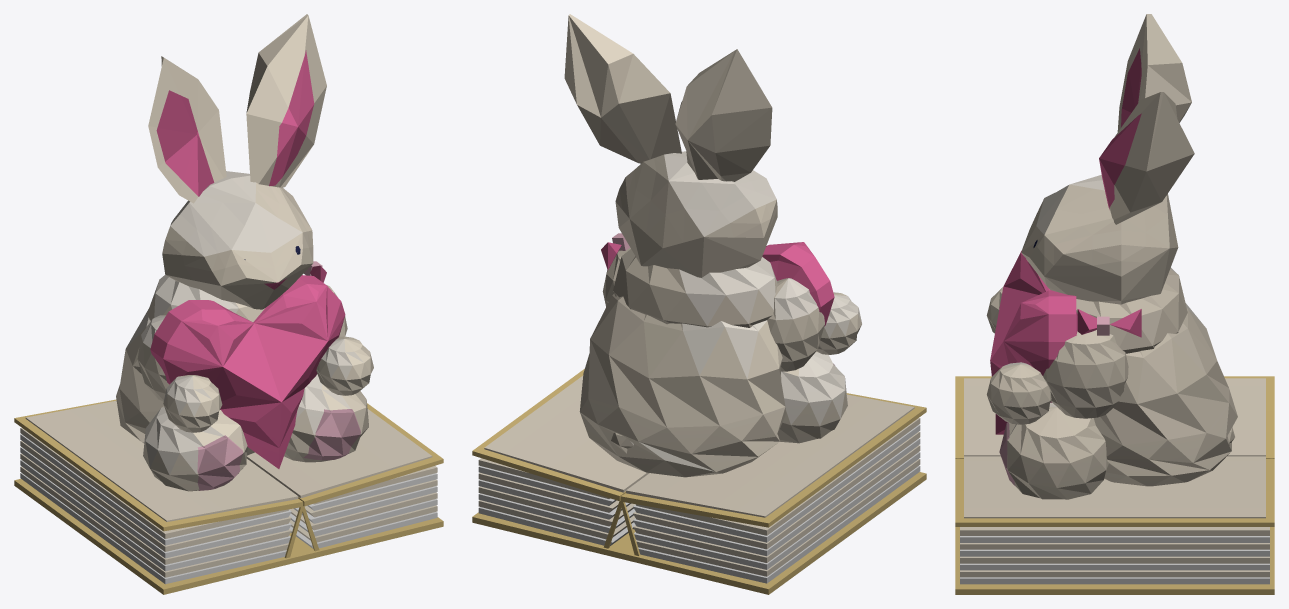
Rendered from bunny-heart.glb.
3 renders of one model, left to right at view 1: azimuth 30°, elevation 25°; view 2: azimuth 150°, elevation 25°; view 3: azimuth 270°, elevation 25°, orthographic. The views are drawn at different scales.
Parts seen in each view (by area): view 1: root_mesh, heart_mesh, ears1_mesh, ears0_mesh; view 2: root_mesh, ears1_mesh, ears0_mesh, heart_mesh; view 3: root_mesh, ears1_mesh, heart_mesh, ears0_mesh.
Part boxes in pixels (<box>): root_mesh: <box>14,171,443,594</box>; heart_mesh: <box>150,275,345,468</box>; ears1_mesh: <box>246,14,326,188</box>; ears0_mesh: <box>148,56,226,203</box>; root_mesh: <box>472,151,926,594</box>; ears1_mesh: <box>564,14,681,163</box>; ears0_mesh: <box>675,49,772,181</box>; heart_mesh: <box>762,242,834,326</box>; root_mesh: <box>955,175,1274,594</box>; ears1_mesh: <box>1099,92,1194,224</box>; heart_mesh: <box>990,252,1077,434</box>; ears0_mesh: <box>1117,14,1191,131</box>.
Size of the model in its own units: 6.5 by 10 by 6.
